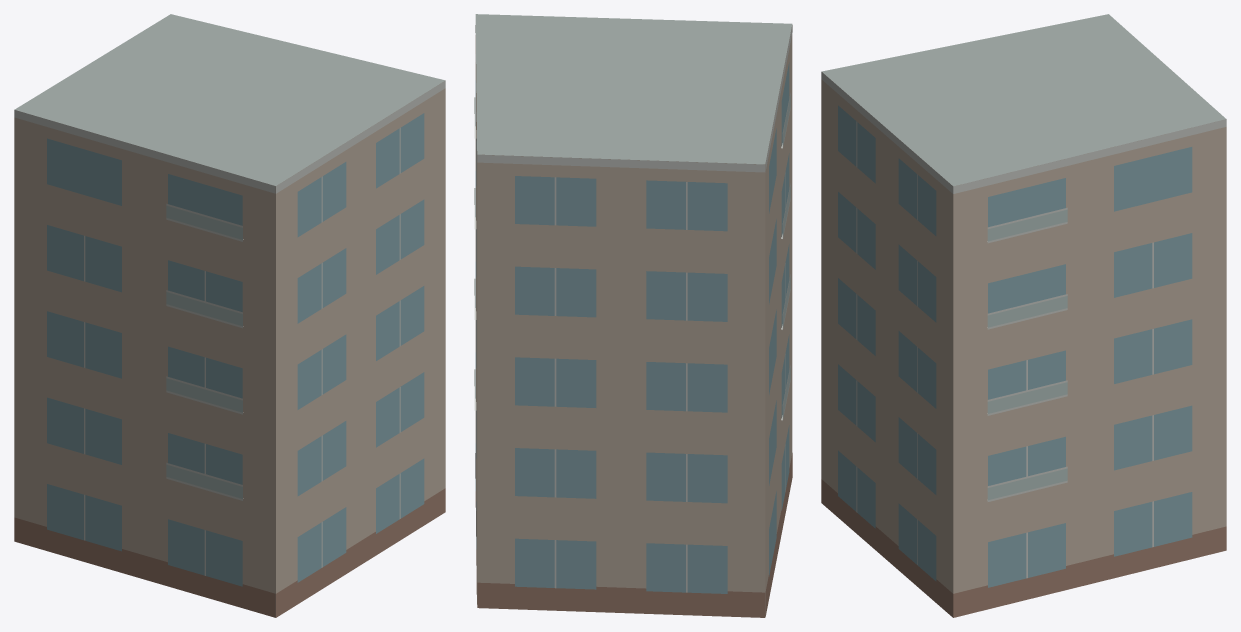
Rendered from survey-upis-32830169.glb.
3 renders of one model, left to right at view 1: azimuth 30°, elevation 25°; view 2: azimuth 150°, elevation 25°; view 3: azimuth 270°, elevation 25°, orthographic. The views are drawn at different scales.
Parts seen in each view (by area): view 1: survey-upis-32830169.tmp; view 2: survey-upis-32830169.tmp; view 3: survey-upis-32830169.tmp.
Part boxes in pixels (x1,y1,x2,y2): survey-upis-32830169.tmp: (14,14,445,617); survey-upis-32830169.tmp: (474,14,792,617); survey-upis-32830169.tmp: (821,14,1226,617).
Size of the model in its own units: 11.75 by 13.7 by 11.67.
